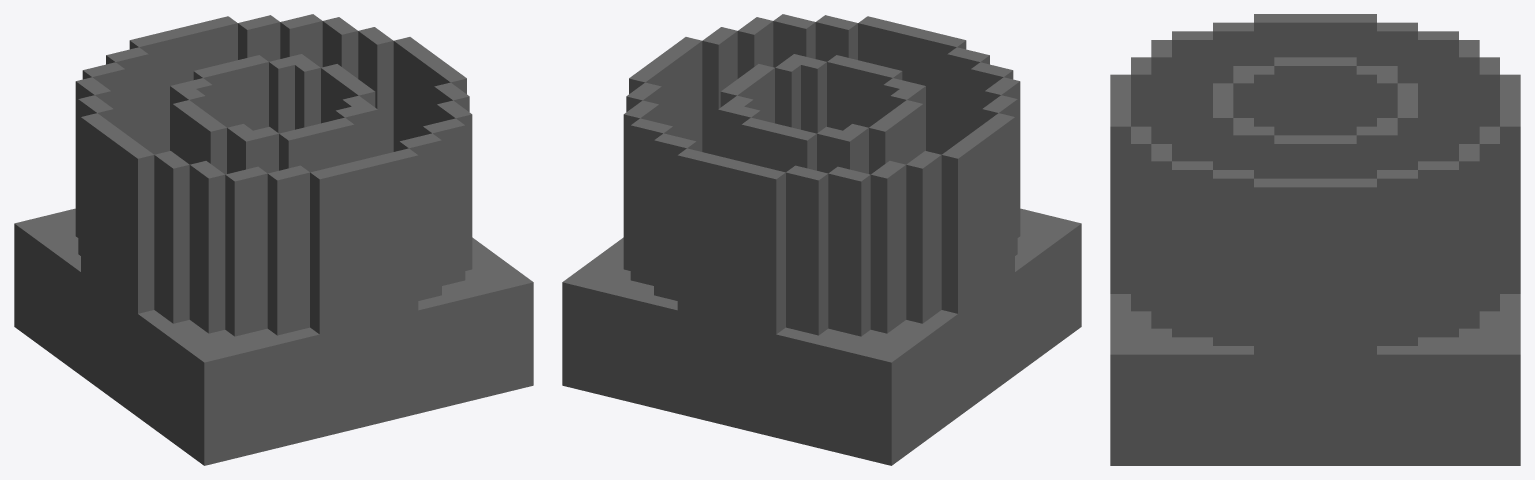
The model's file is large_thruster.dae.
3 renders of one model, left to right at view 1: azimuth 30°, elevation 25°; view 2: azimuth 150°, elevation 25°; view 3: azimuth 270°, elevation 25°, orthographic. The views are drawn at different scales.
Parts seen in each view (by area): view 1: large_thruster; view 2: large_thruster; view 3: large_thruster.
Part boxes in pixels (x1,y1,x2,y2): large_thruster: (14,14,533,465); large_thruster: (562,14,1081,465); large_thruster: (1110,14,1520,465).
Bounding box in the file's own units: 2 × 1.5 × 2.
Materials: 1 (1 with a texture image).
